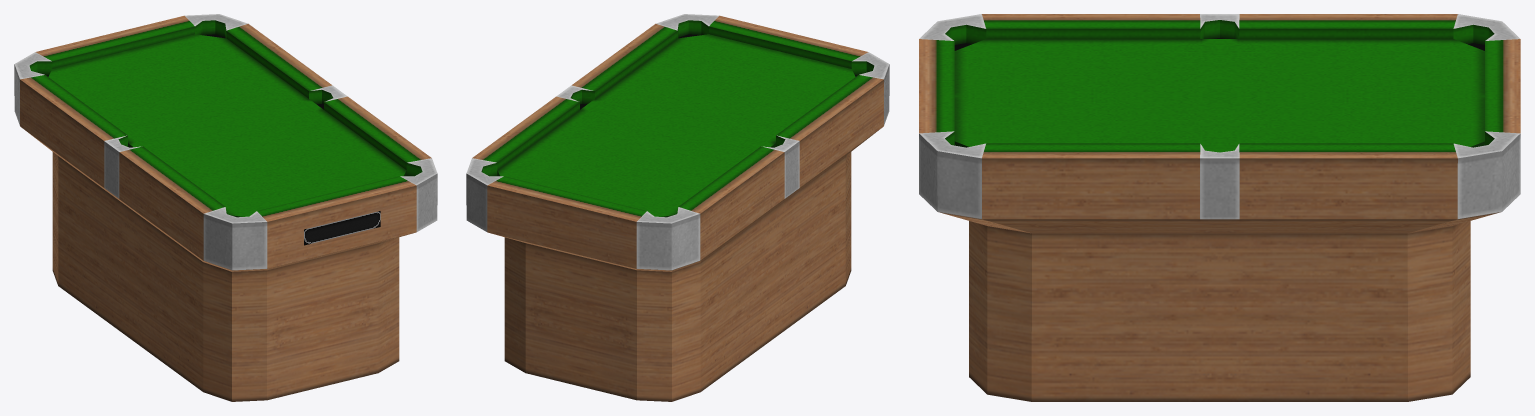
Rendered from pool_table.glb.
3 views of the same model, side by side, from view 1: azimuth 30°, elevation 25°; view 2: azimuth 150°, elevation 25°; view 3: azimuth 270°, elevation 25° (orthographic). The views are drawn at different scales.
Parts seen in each view (by area): view 1: PoolTable; view 2: PoolTable; view 3: PoolTable.
Boxes of the visible parts, x1,y1,x2,y2 form: PoolTable: (14,14,437,401); PoolTable: (466,14,889,401); PoolTable: (919,14,1520,401).
Bounding box in the file's own units: 1.21 × 0.9983 × 2.13.
Materials: 1 (1 with a texture image).
